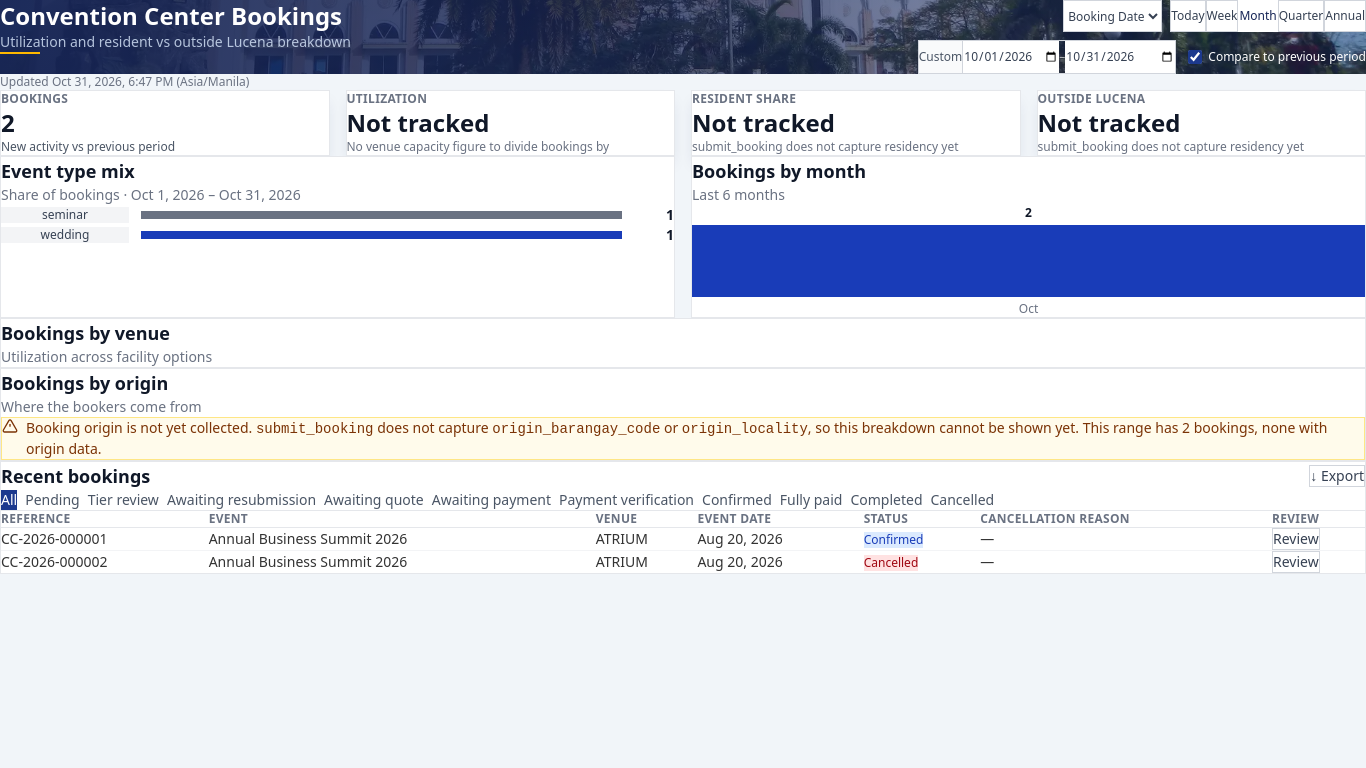
Scenario: ConventionCenterPage › chart panels derive from listBookings()/listVenues(), not mock data › the event type mix panel respects the active status tab, not just raw rows
expect the text "wedding" is shown: met, box [1,227,129,243]
expect the text "seminar" is shown: met, box [1,207,129,223]
Click the tab "Cancelled" at (962, 500), box [930,490,994,510]
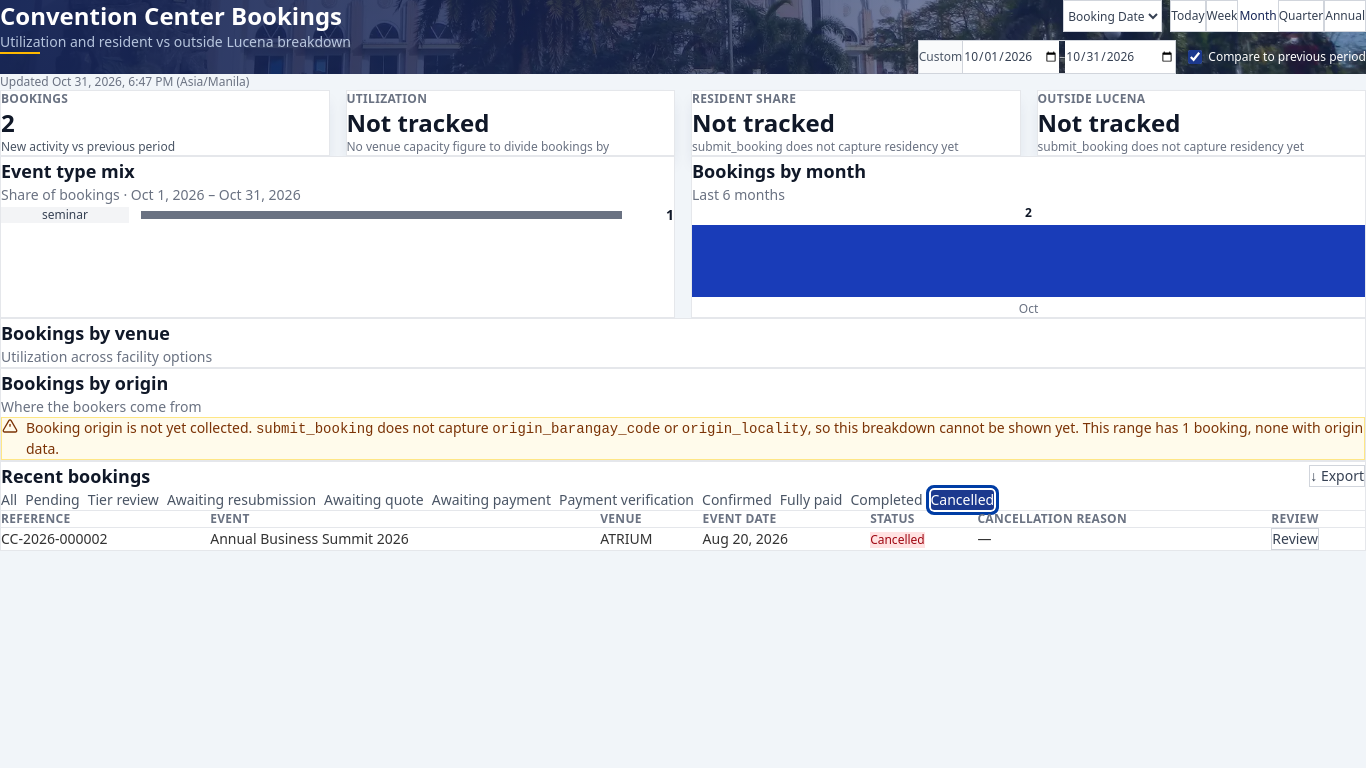
expect the text "seminar" is shown: met, box [1,207,129,223]
expect the text "wedding" is gone: met
